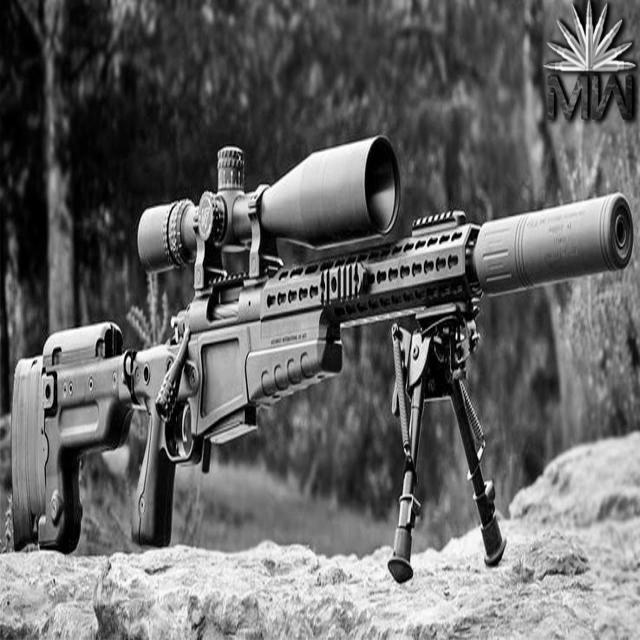Sniper: (16, 135, 617, 605)
